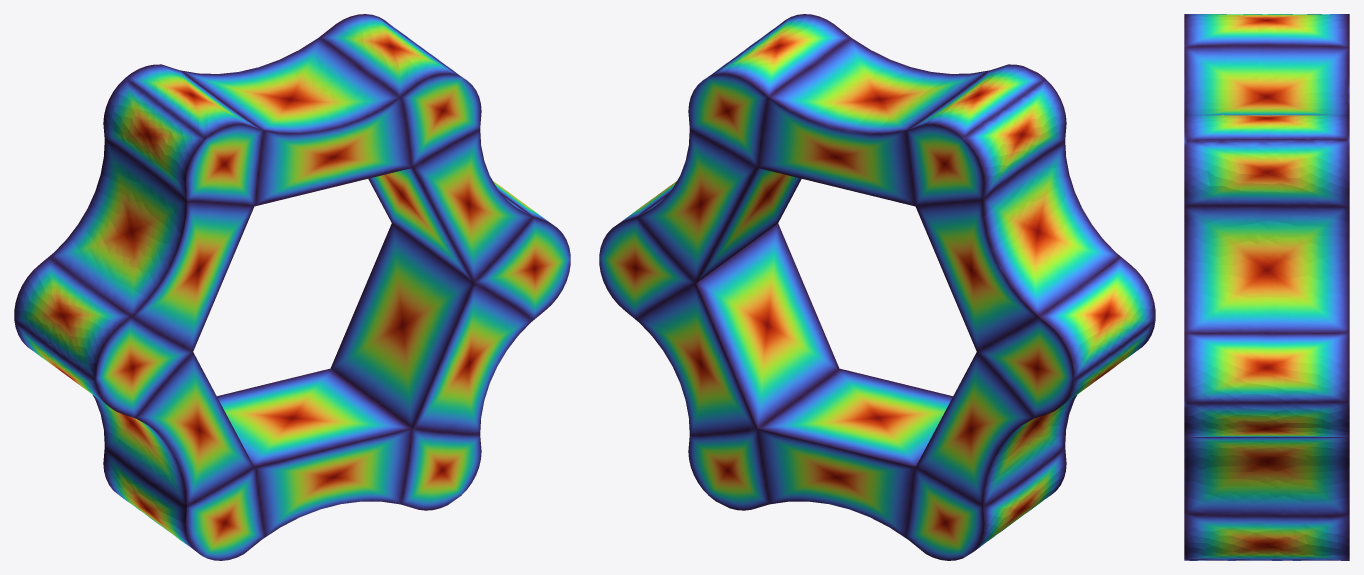
Rendered from gen2.glb.
3 views of the same model, side by side, from view 1: azimuth 30°, elevation 25°; view 2: azimuth 150°, elevation 25°; view 3: azimuth 270°, elevation 25° (orthographic).
Parts seen in each view (by area): view 1: Node; view 2: Node; view 3: Node.
Boxes of the visible parts, x1,y1,x2,y2 form: Node: (14,14,570,560); Node: (599,14,1155,560); Node: (1184,14,1349,560).
Bounding box in the file's own units: 23.98 × 20.97 × 7.2.
1 material, 1 textured.
